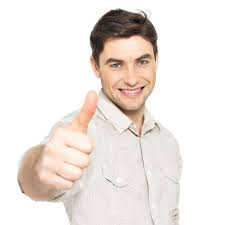ThumbsUp: (35, 89, 100, 198)
